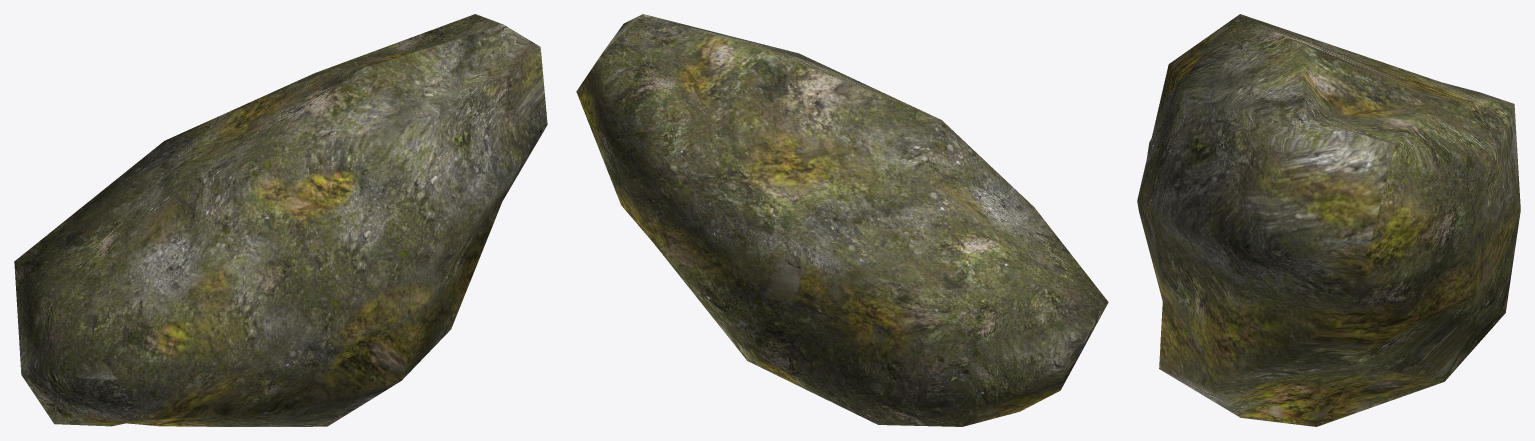
The model's file is small_rock.fbx.
3 renders of one model, left to right at view 1: azimuth 30°, elevation 25°; view 2: azimuth 150°, elevation 25°; view 3: azimuth 270°, elevation 25°, orthographic. The views are drawn at different scales.
Parts seen in each view (by area): view 1: smallRock1; view 2: smallRock1; view 3: smallRock1.
Boxes of the visible parts, x1,y1,x2,y2 form: smallRock1: (14, 14, 547, 426); smallRock1: (576, 14, 1108, 426); smallRock1: (1137, 14, 1520, 426).
Size of the model in its own units: 179 by 116 by 91.03.
